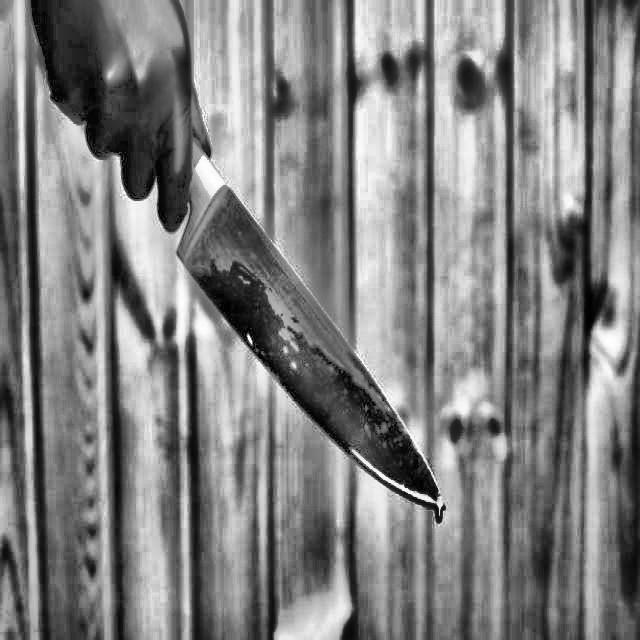pisau: (44, 81, 465, 534)
